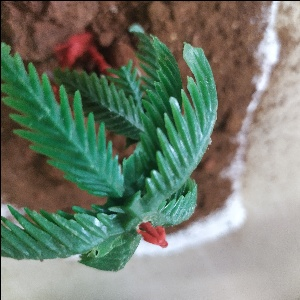plant: (1, 27, 225, 277)
